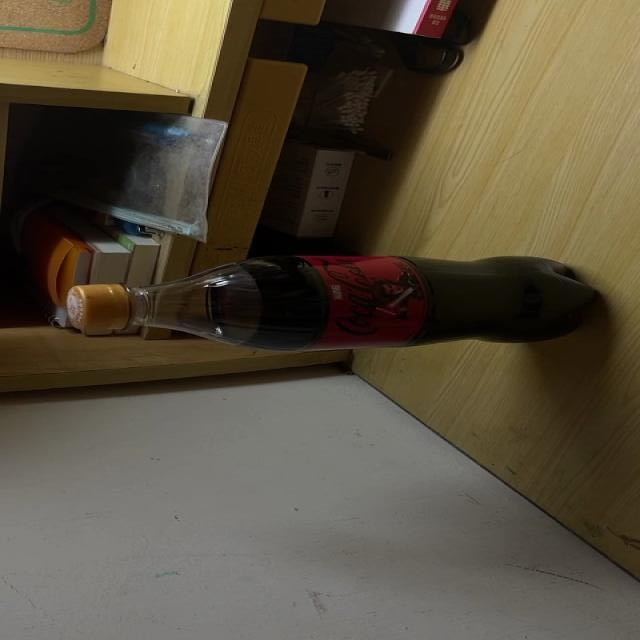Coca-Cola: (66, 254, 602, 351)
